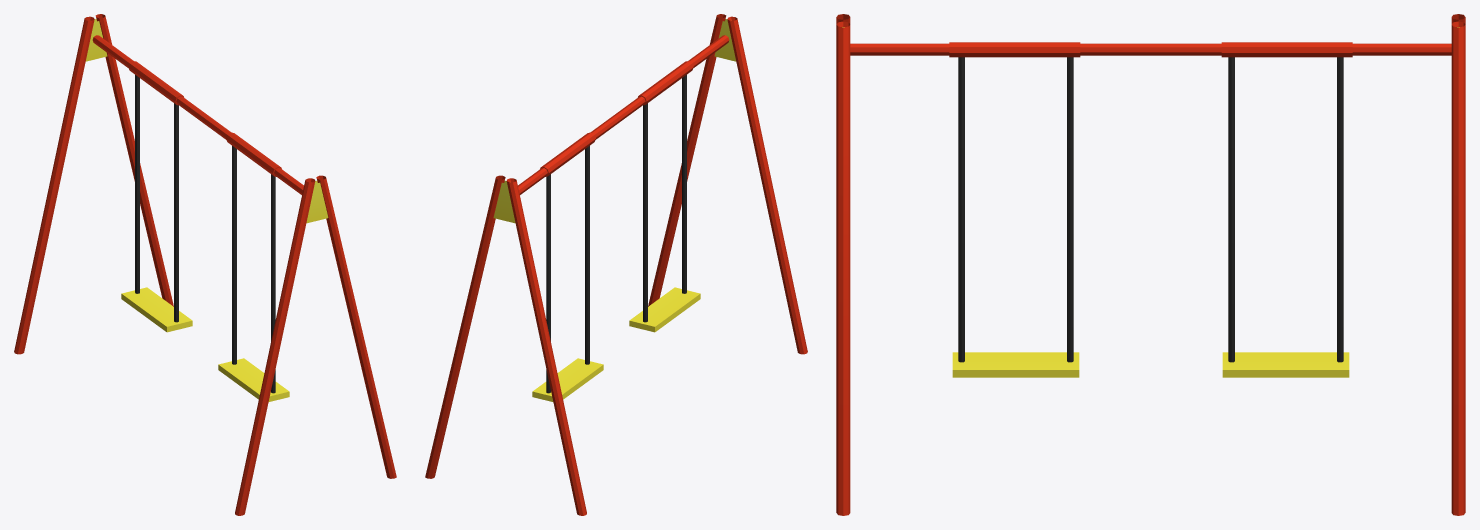
File: Ayunan.fbx
3 renders of one model, left to right at view 1: azimuth 30°, elevation 25°; view 2: azimuth 150°, elevation 25°; view 3: azimuth 270°, elevation 25°, orthographic. The views are drawn at different scales.
Parts seen in each view (by area): view 1: Ayunan_LOD0, Ayunan1_LOD0, Ayunan2_LOD0; view 2: Ayunan_LOD0, Ayunan2_LOD0, Ayunan1_LOD0; view 3: Ayunan_LOD0, Ayunan1_LOD0, Ayunan2_LOD0.
Boxes of the visible parts, x1,y1,x2,y2 form: Ayunan_LOD0: [14, 14, 396, 515]; Ayunan1_LOD0: [121, 75, 192, 332]; Ayunan2_LOD0: [218, 146, 289, 401]; Ayunan_LOD0: [425, 14, 807, 515]; Ayunan2_LOD0: [629, 75, 700, 332]; Ayunan1_LOD0: [532, 146, 603, 401]; Ayunan_LOD0: [836, 14, 1465, 515]; Ayunan1_LOD0: [1222, 57, 1349, 377]; Ayunan2_LOD0: [952, 57, 1079, 377].
Size of what is drawn, in the model's own units: 169 by 318 by 412.
